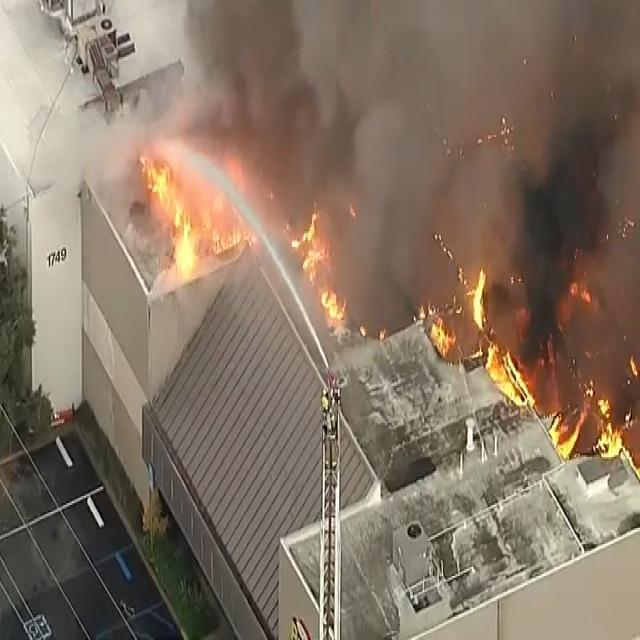Fire: (460, 252, 636, 454), (142, 139, 264, 252), (298, 190, 355, 340)
Smoke: (182, 3, 640, 290)
